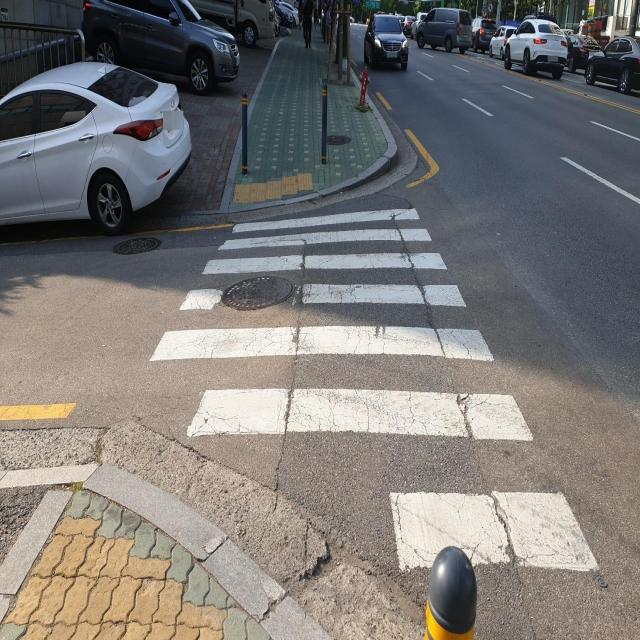횡단보도: (148, 206, 604, 575)
